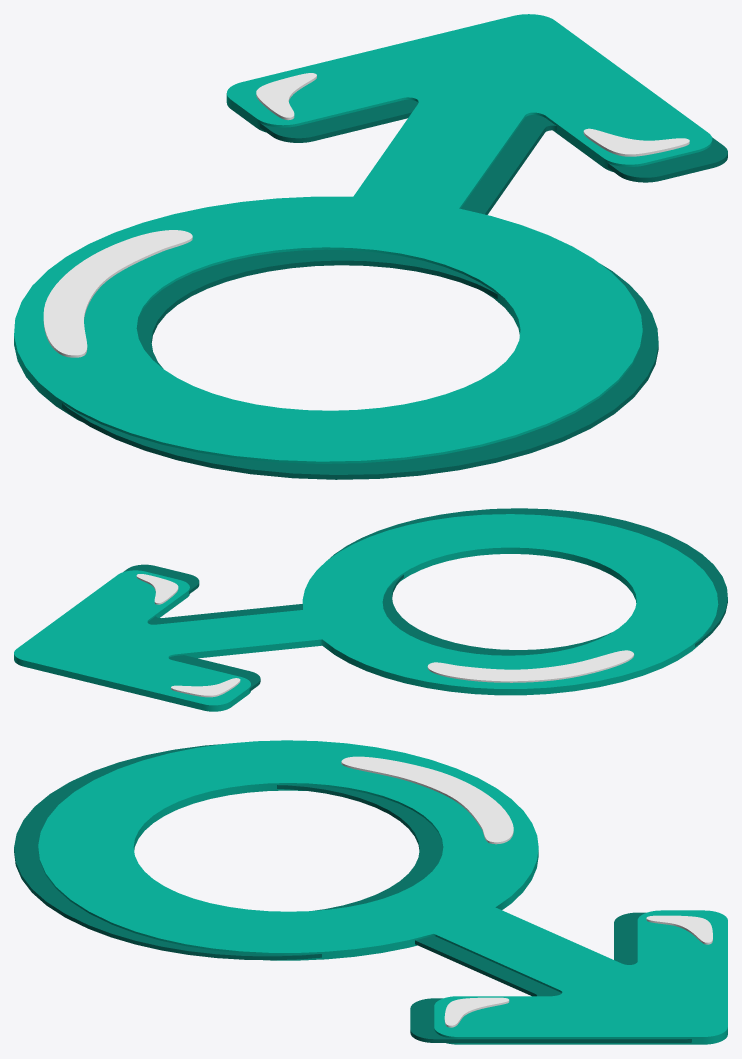
Rendered from emoji_u2642.glb.
3 renders of one model, top to bottom at view 1: azimuth 30°, elevation 25°; view 2: azimuth 150°, elevation 25°; view 3: azimuth 270°, elevation 25°, orthographic. The views are drawn at different scales.
Parts seen in each view (by area): view 1: emoji_u2642; view 2: emoji_u2642; view 3: emoji_u2642.
Part boxes in pixels (x1,y1,x2,y2): emoji_u2642: [14, 14, 727, 479]; emoji_u2642: [14, 508, 727, 711]; emoji_u2642: [14, 740, 727, 1044].
Bounding box in the file's own units: 0.0333 × 0.0006 × 0.0339.
